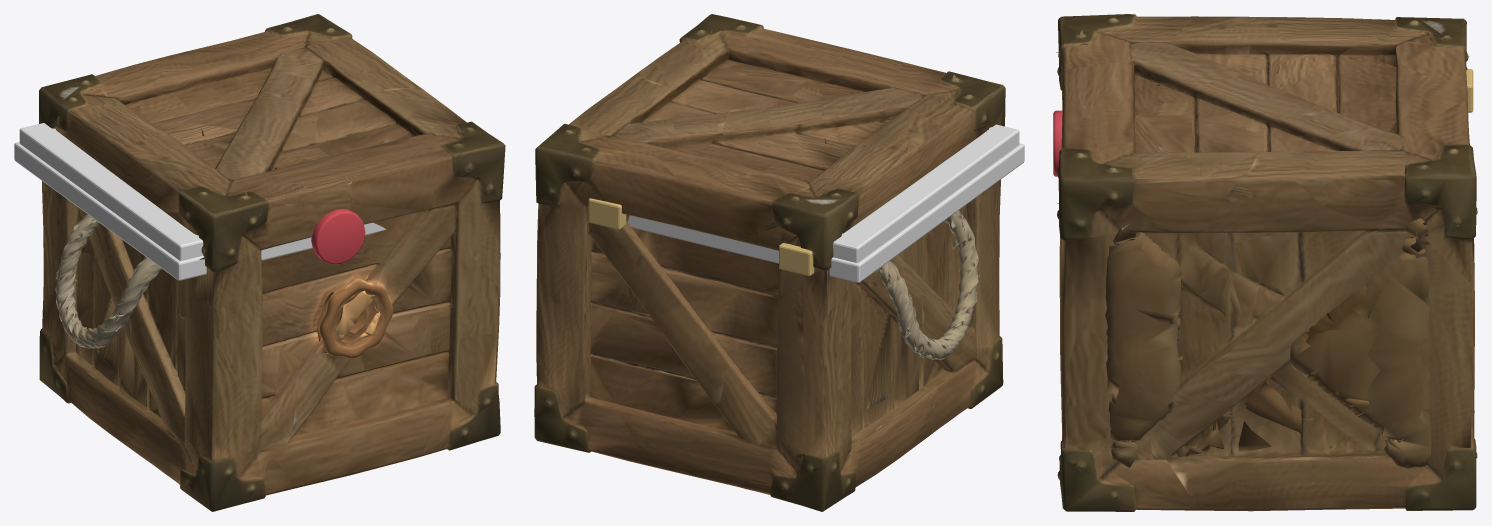
3 renders of one model, left to right at view 1: azimuth 30°, elevation 25°; view 2: azimuth 150°, elevation 25°; view 3: azimuth 270°, elevation 25°, orthographic. The views are drawn at different scales.
Parts seen in each view (by area): view 1: BoxBody, LidPivot, VelvetRim, SealPart; view 2: BoxBody, LidPivot, VelvetRim, HingePlate_-1.0, HingePlate_1.0; view 3: BoxBody, LidPivot, SealPart.
Boxes of the visible parts, bbox=[...] form: BoxBody: bbox=[39, 181, 502, 511]; LidPivot: bbox=[19, 14, 505, 266]; VelvetRim: bbox=[14, 142, 386, 280]; SealPart: bbox=[311, 209, 365, 264]; BoxBody: bbox=[534, 179, 1003, 511]; LidPivot: bbox=[535, 14, 1019, 265]; VelvetRim: bbox=[627, 143, 1024, 282]; HingePlate_-1.0: bbox=[779, 243, 814, 276]; HingePlate_1.0: bbox=[588, 198, 626, 229]; BoxBody: bbox=[1057, 76, 1477, 511]; LidPivot: bbox=[1056, 14, 1477, 244]; SealPart: bbox=[1053, 110, 1062, 176].
Size of the model in its own units: 0.3841 by 0.3374 by 0.3597.
